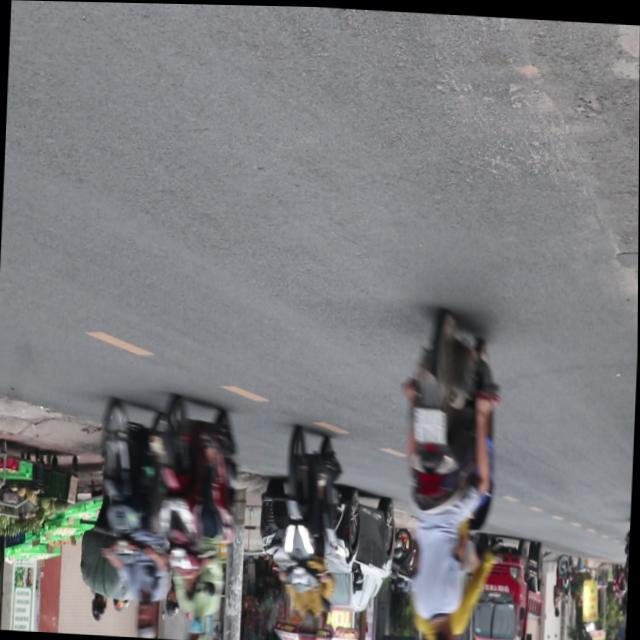helmet: (134, 599, 159, 637), (295, 608, 320, 640), (184, 614, 210, 640)
licenseplate: (388, 305, 507, 640), (79, 390, 182, 638), (148, 388, 249, 640), (271, 423, 348, 640)
motorcyclist: (427, 618, 460, 640)
nohelmet: (411, 406, 447, 443)
